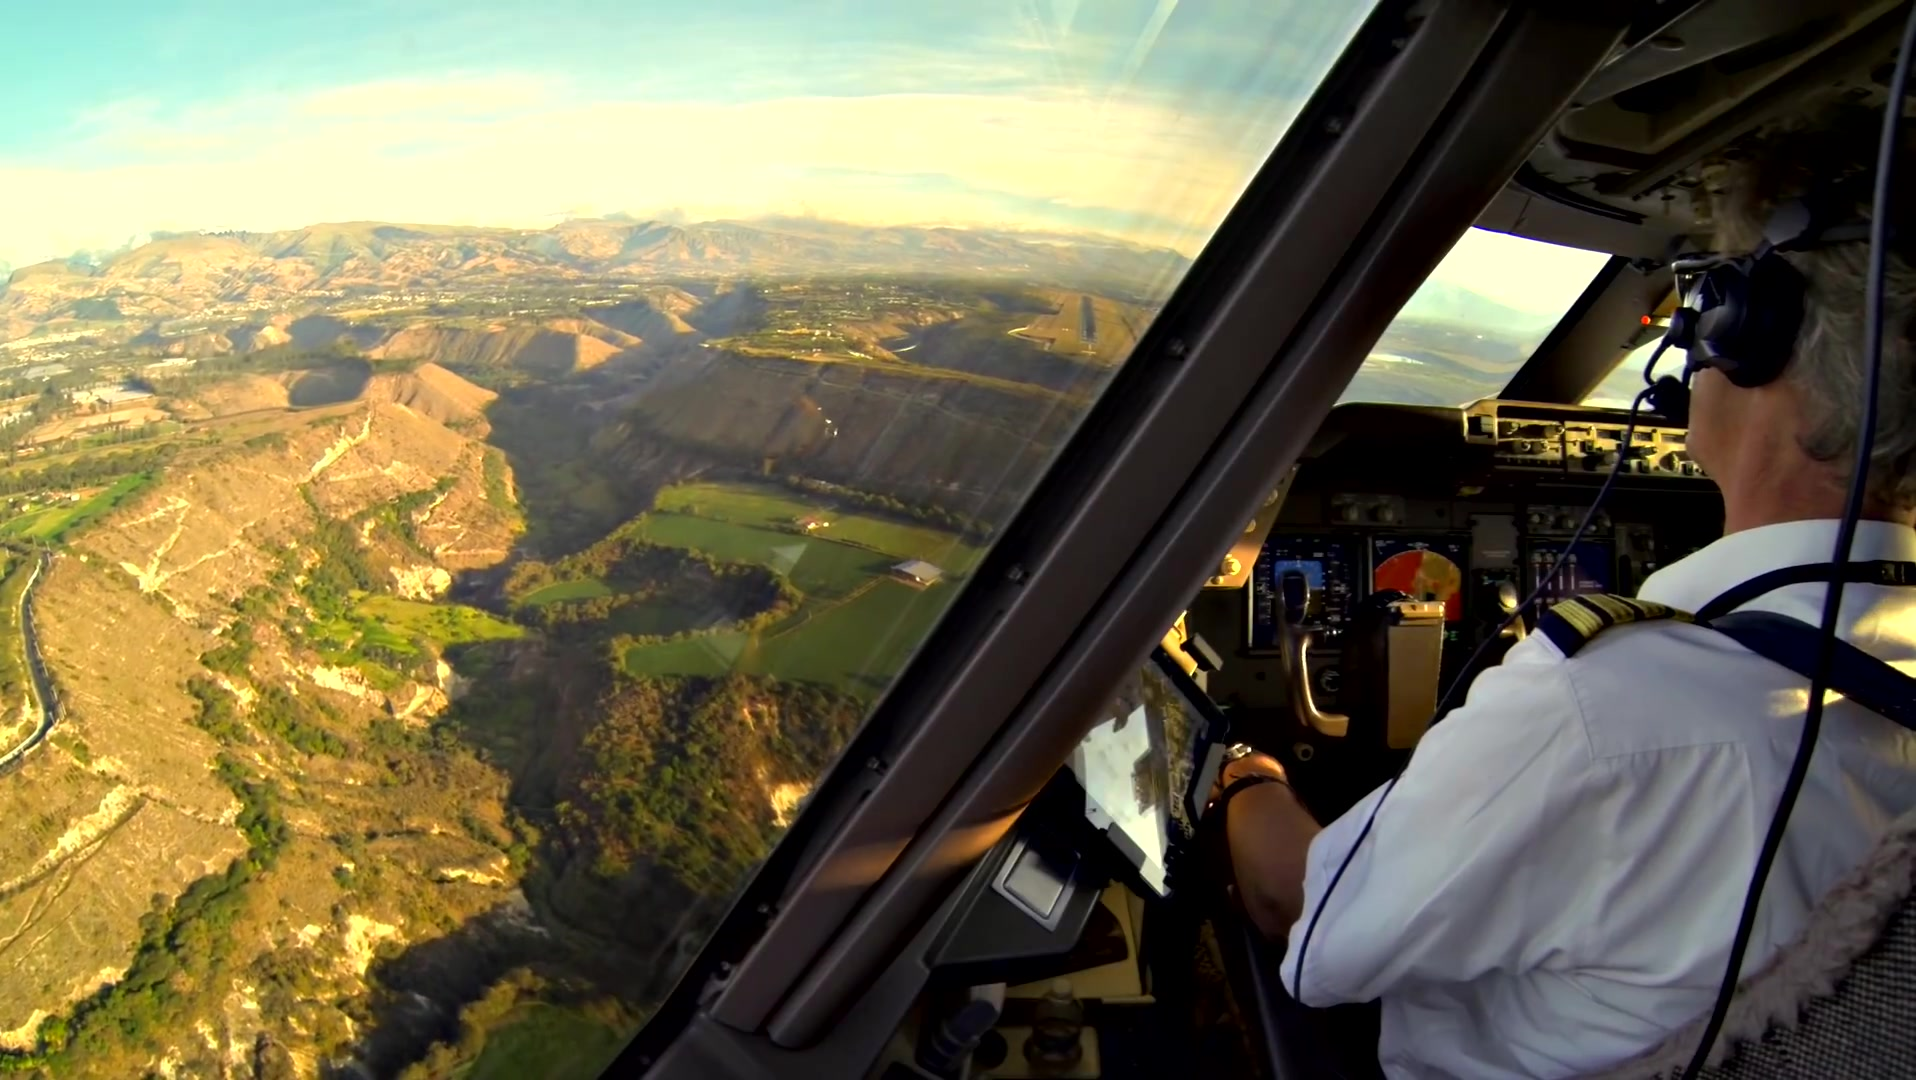runway: (1076, 293, 1103, 350)
